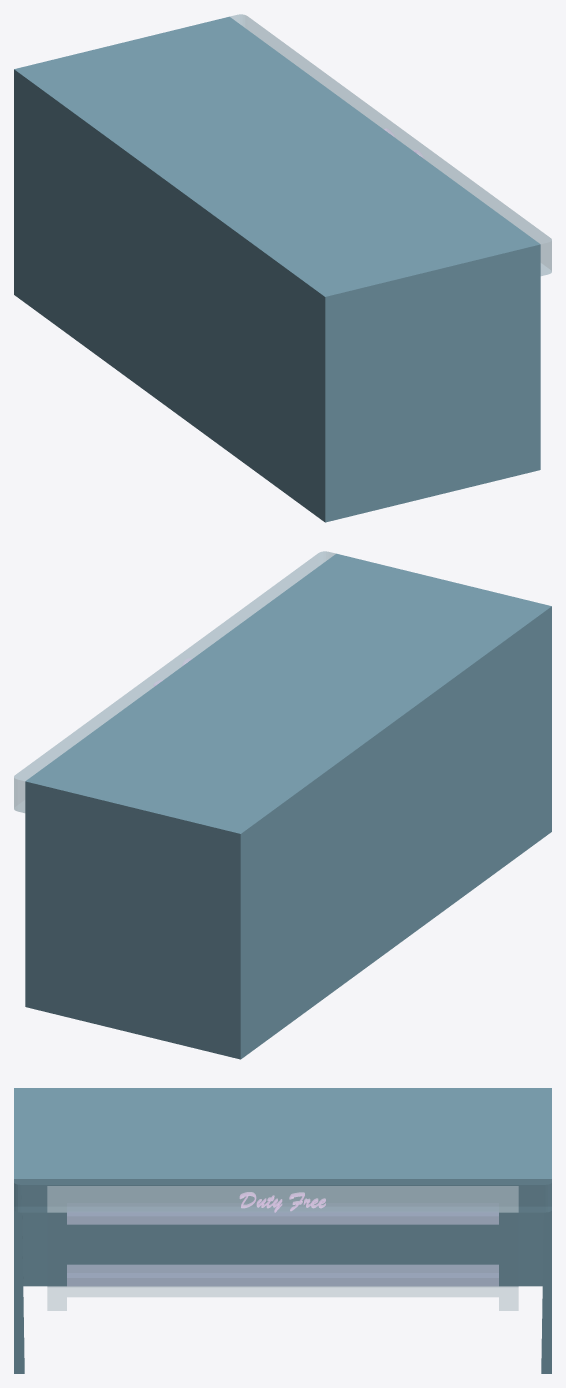
Rendered from shop.glb.
The picture shows the model from 3 angles, top to bottom: view 1: azimuth 30°, elevation 25°; view 2: azimuth 150°, elevation 25°; view 3: azimuth 270°, elevation 25°; orthographic projection. The views are drawn at different scales.
Parts seen in each view (by area): view 1: Cube.002, Cube.003; view 2: Cube.002, Cube.003; view 3: Cube.002, Cube.005, Cube.003, Cube.006, Text.
Part boxes in pixels (box(x1,y1,x2,y2)): Cube.002: box(14, 16, 540, 522); Cube.003: box(230, 14, 551, 275); Cube.002: box(25, 553, 551, 1059); Cube.003: box(14, 551, 335, 812); Cube.002: box(14, 1088, 551, 1373); Cube.005: box(47, 1186, 518, 1310); Cube.003: box(14, 1179, 551, 1212); Cube.006: box(67, 1211, 498, 1285); Text: box(240, 1192, 325, 1212).
Size of the model in its own units: 84.53 by 79.25 by 198.
